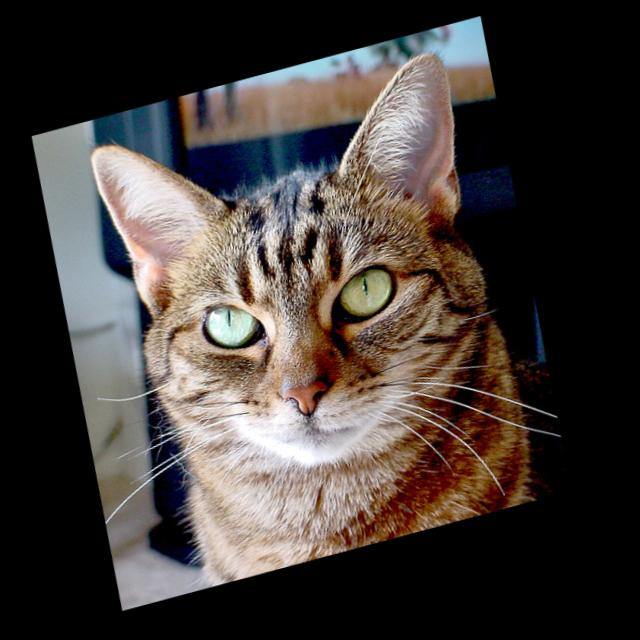animals: (87, 54, 508, 454)
